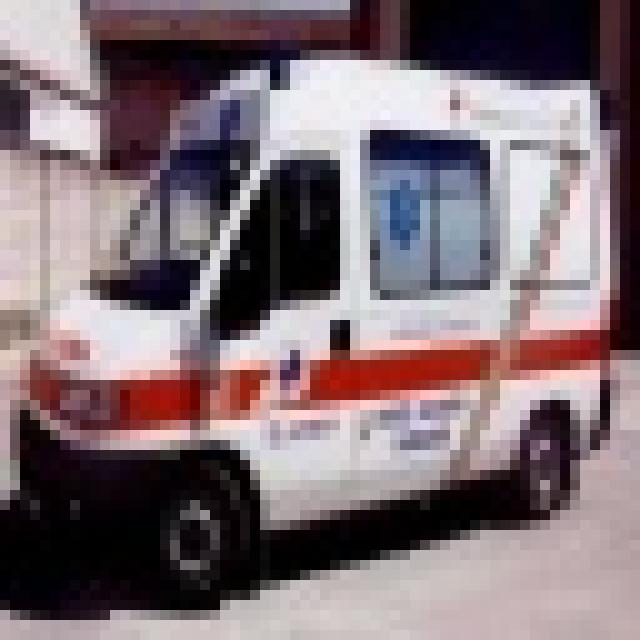Ambulance: (0, 40, 610, 600)
